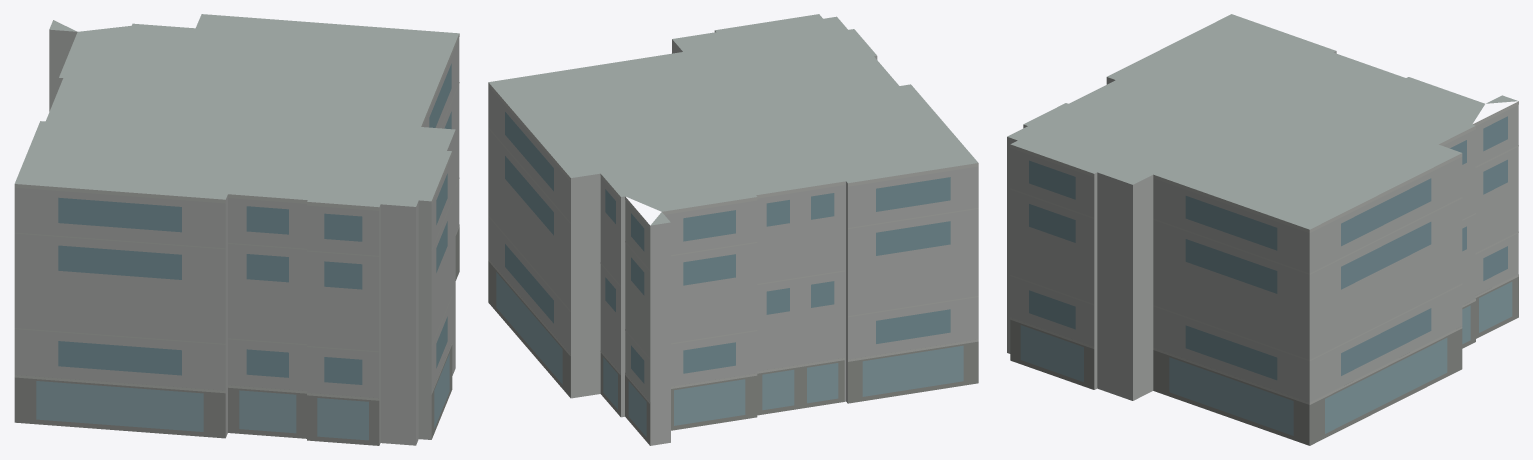
Rendered from survey-upis-32708609.glb.
3 views of the same model, side by side, from view 1: azimuth 30°, elevation 25°; view 2: azimuth 150°, elevation 25°; view 3: azimuth 270°, elevation 25° (orthographic). The views are drawn at different scales.
Visible parts, largest first — view 1: survey-upis-32708609.tmp; view 2: survey-upis-32708609.tmp; view 3: survey-upis-32708609.tmp.
Part boxes in pixels (x1=…): survey-upis-32708609.tmp: x1=14, y1=14, x2=459, y2=445; survey-upis-32708609.tmp: x1=488, y1=14, x2=978, y2=445; survey-upis-32708609.tmp: x1=1007, y1=14, x2=1518, y2=445.
Bounding box in the file's own units: 32.64 × 15.25 × 32.72.
